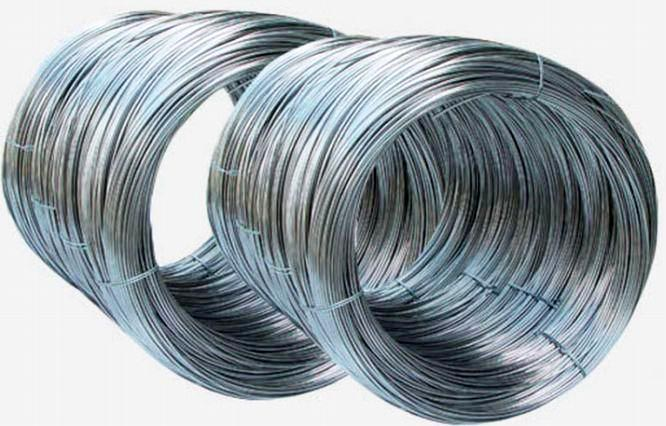Nonrec_Tangler: (201, 20, 661, 422), (1, 17, 359, 408)
